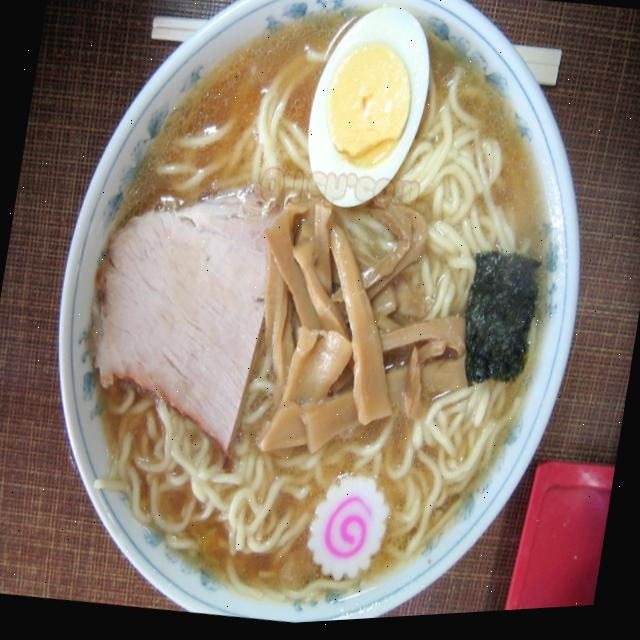面条主食: (13, 0, 629, 639)
